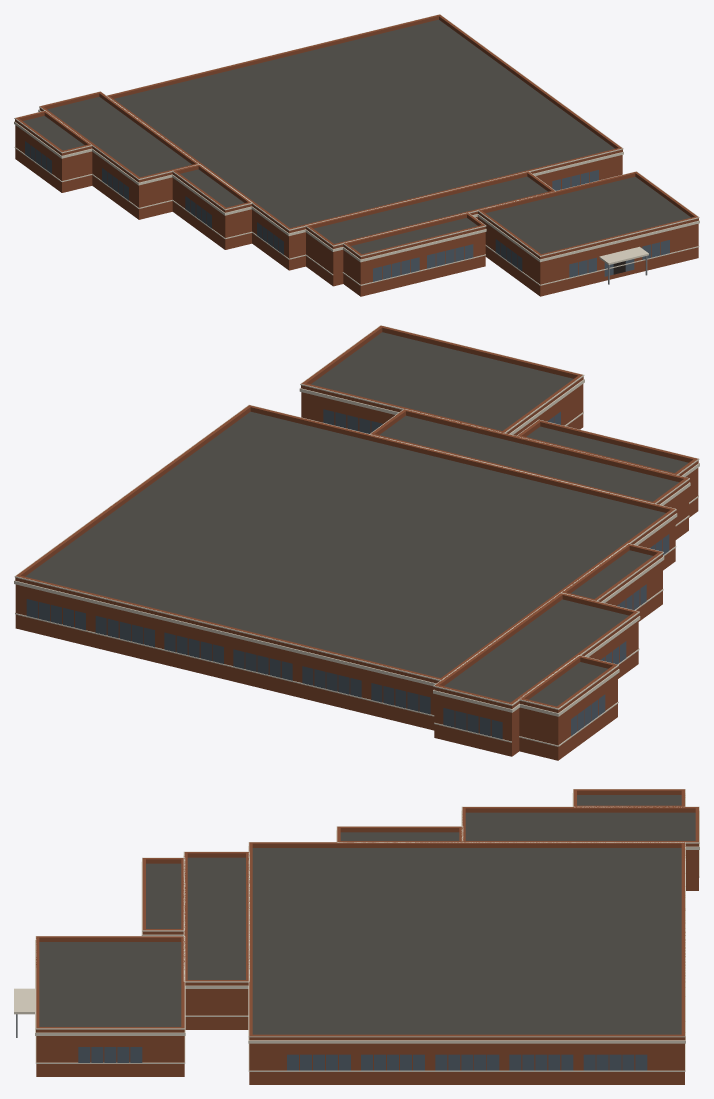
Rendered from school-3029-m2.glb.
3 renders of one model, top to bottom at view 1: azimuth 30°, elevation 25°; view 2: azimuth 150°, elevation 25°; view 3: azimuth 270°, elevation 25°, orthographic. The views are drawn at different scales.
Visible parts, largest first — view 1: school_3029_m2; view 2: school_3029_m2; view 3: school_3029_m2.
Boxes of the visible parts, <box> form: school_3029_m2: <box>14,14,699,296</box>; school_3029_m2: <box>14,325,699,760</box>; school_3029_m2: <box>14,789,699,1084</box>.
Bounding box in the file's own units: 63.24 × 5.8 × 74.02.
